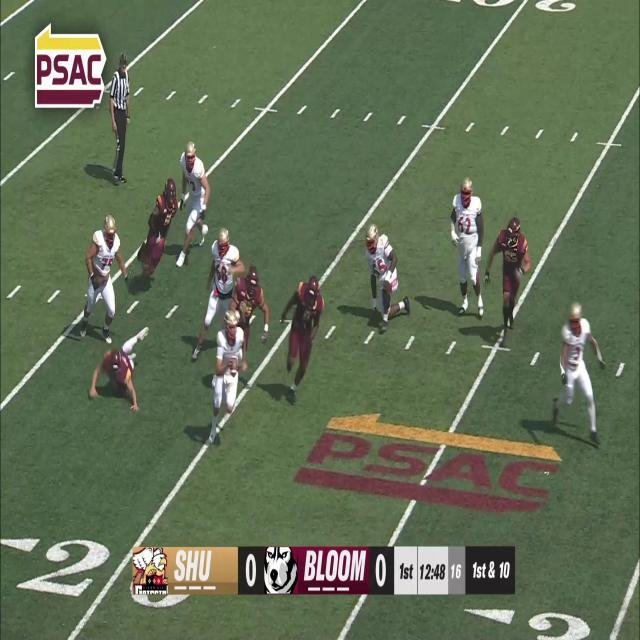football: (227, 352, 238, 377)
